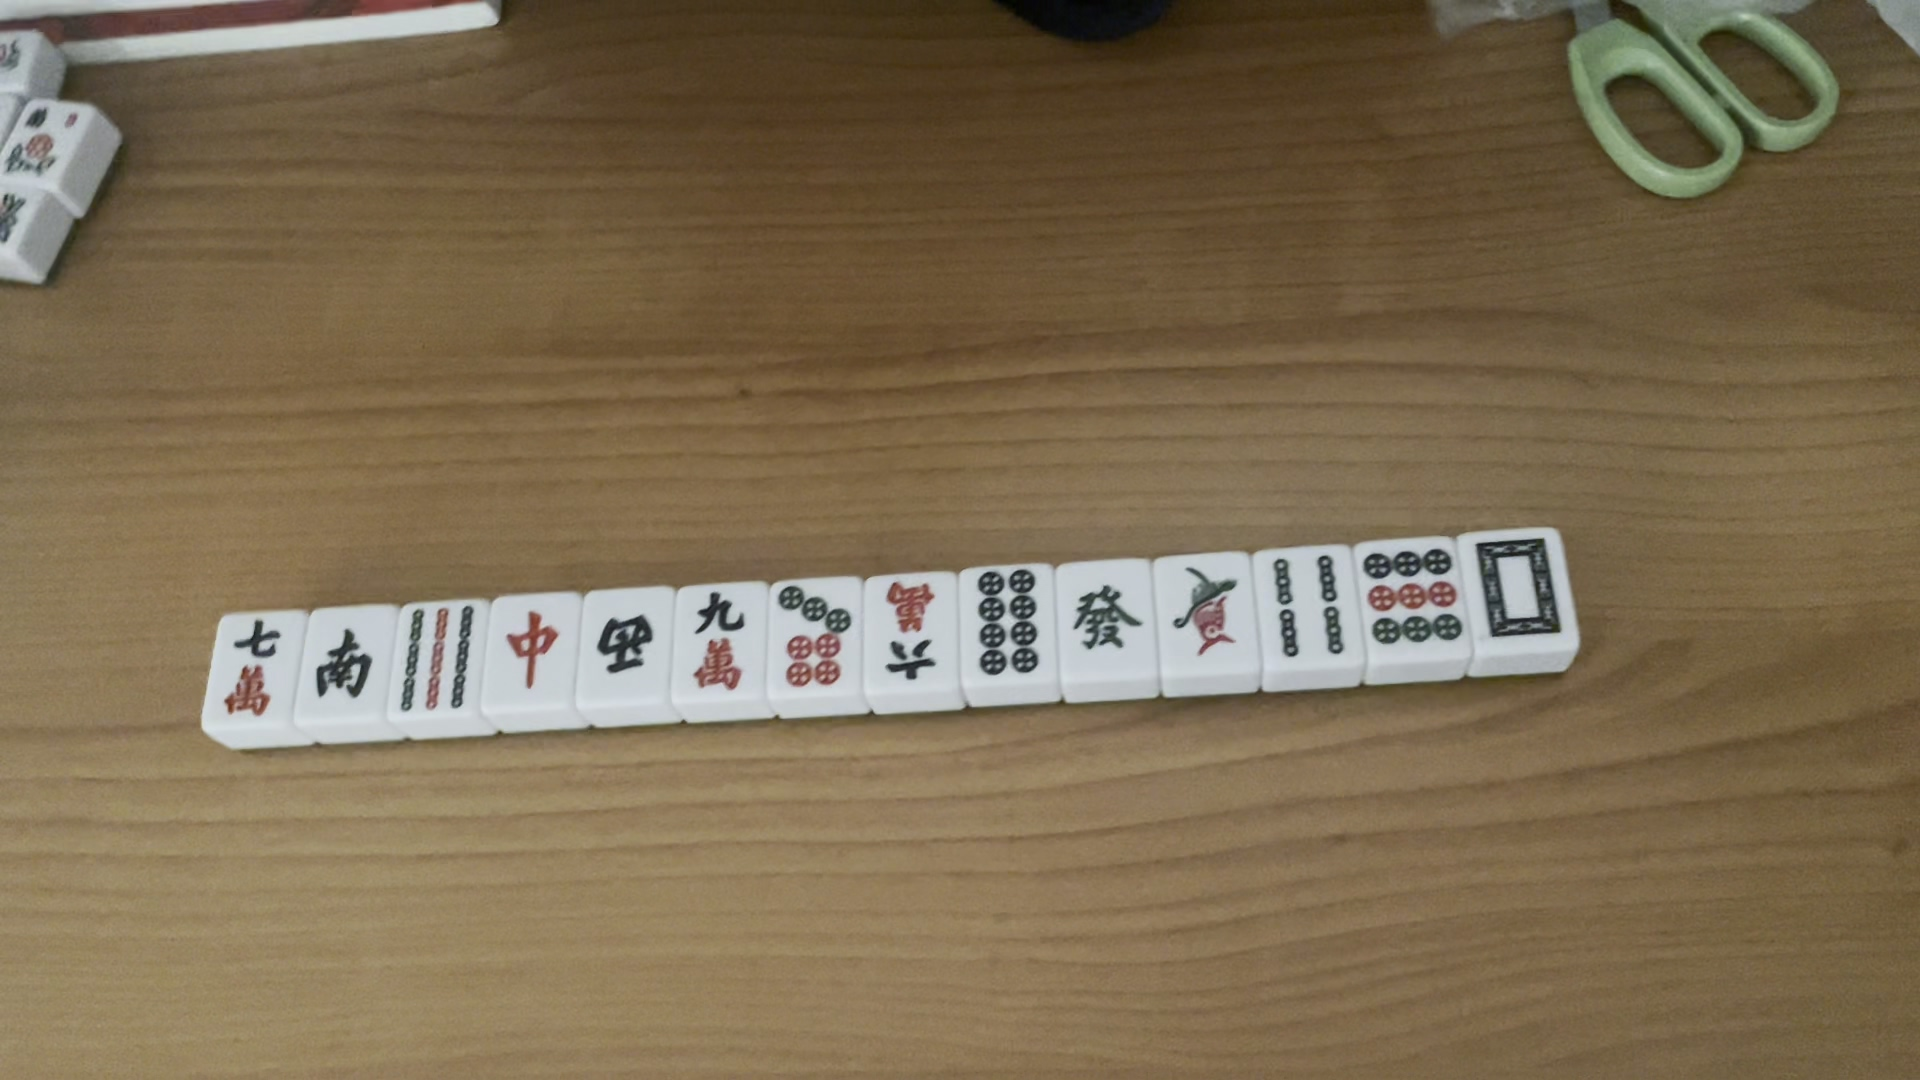b-1: (1174, 564, 1245, 657)
b-4: (1267, 553, 1349, 662)
b-9: (394, 605, 477, 713)
c-6: (878, 580, 949, 686)
c-7: (210, 615, 291, 721)
c-9: (683, 591, 752, 691)
d-7: (767, 578, 855, 694)
d-8: (964, 568, 1047, 680)
d-9: (1360, 545, 1465, 644)
honors-green: (1064, 582, 1145, 663)
honors-red: (497, 604, 564, 695)
honors-south: (307, 626, 377, 699)
honors-west: (593, 603, 659, 691)
honors-white: (1473, 535, 1571, 644)
